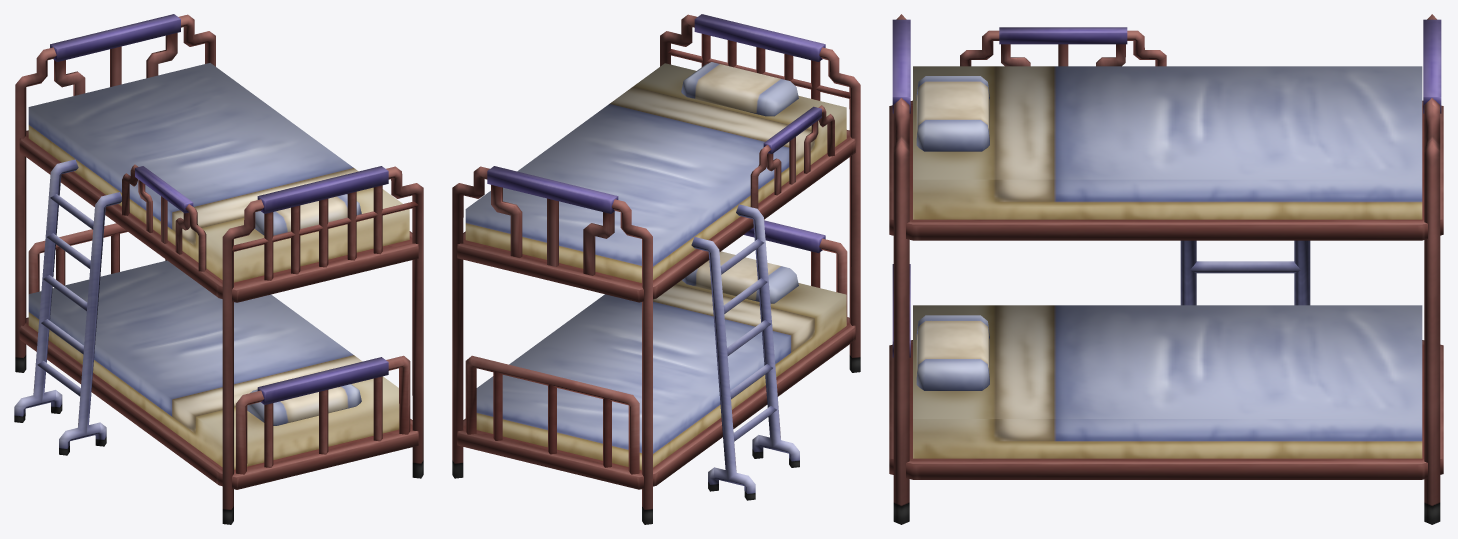
File: a_SWIbed02.glb
3 renders of one model, left to right at view 1: azimuth 30°, elevation 25°; view 2: azimuth 150°, elevation 25°; view 3: azimuth 270°, elevation 25°, orthographic. The views are drawn at different scales.
Visible parts, largest first — view 1: a_SWIbed02; view 2: a_SWIbed02; view 3: a_SWIbed02.
Part boxes in pixels (bbox=[...]): a_SWIbed02: bbox=[14, 14, 423, 524]; a_SWIbed02: bbox=[452, 14, 860, 524]; a_SWIbed02: bbox=[889, 14, 1443, 524].
Size of the model in its own units: 1.34 by 1.6 by 1.99.
Materials: 2 (2 with a texture image).
